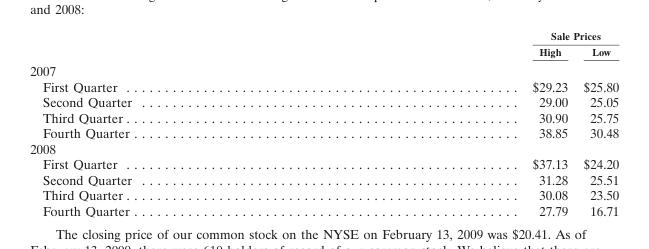table: (29, 29, 618, 218)
table column: (29, 29, 331, 218), (331, 29, 575, 218), (575, 29, 618, 218)
table column header: (29, 29, 618, 60)
table projected row header: (29, 60, 618, 78), (29, 140, 618, 156)
table row: (29, 60, 618, 78), (29, 43, 618, 60), (29, 78, 618, 94), (29, 109, 618, 125), (29, 140, 618, 156), (29, 171, 618, 187), (29, 202, 618, 218), (29, 94, 618, 109), (29, 125, 618, 140), (29, 156, 618, 171), (29, 187, 618, 202), (29, 29, 618, 43)
table spanning cell: (331, 29, 618, 43)
